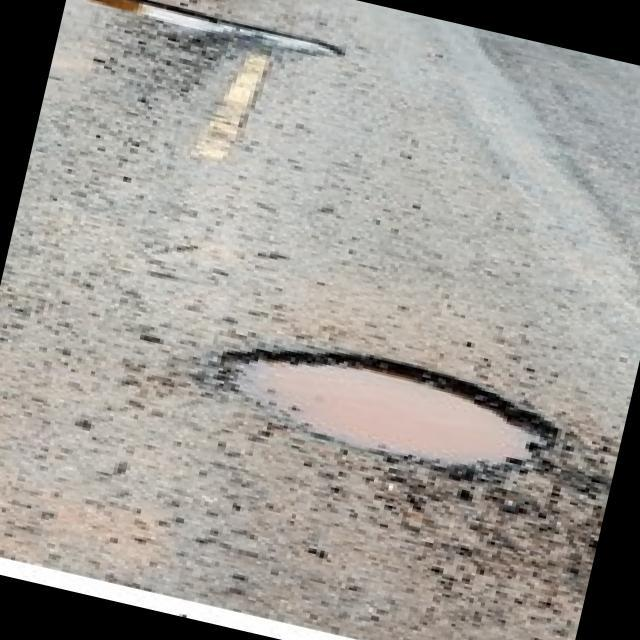Pothole: (195, 314, 581, 501), (65, 0, 351, 68)
